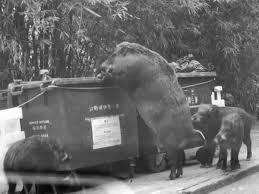wildboar: (93, 40, 206, 180), (2, 135, 71, 194), (213, 109, 252, 169)
